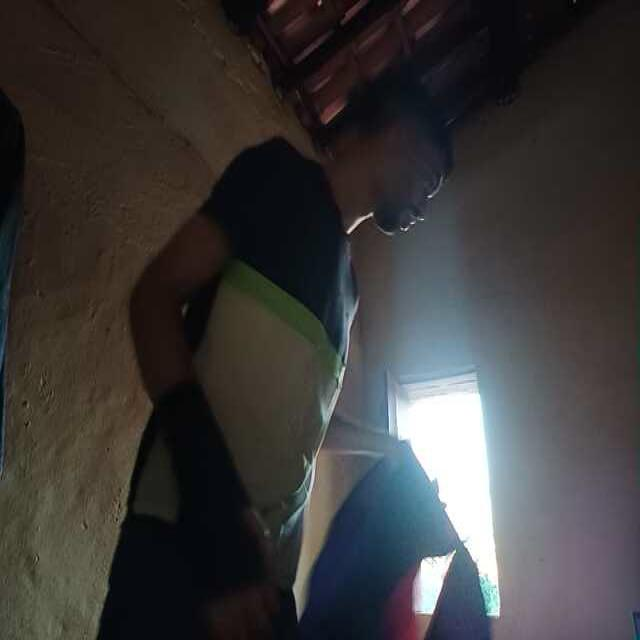colete: (284, 440, 496, 638)
pessoa: (122, 82, 464, 640)
